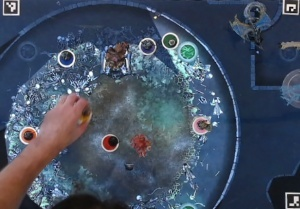blue: (56, 47, 75, 68)
green: (160, 31, 179, 50)
orange: (17, 122, 37, 146)
pink: (188, 113, 210, 135)
red: (96, 131, 119, 153)
violet: (136, 34, 156, 58)
yellow: (75, 104, 93, 126)
